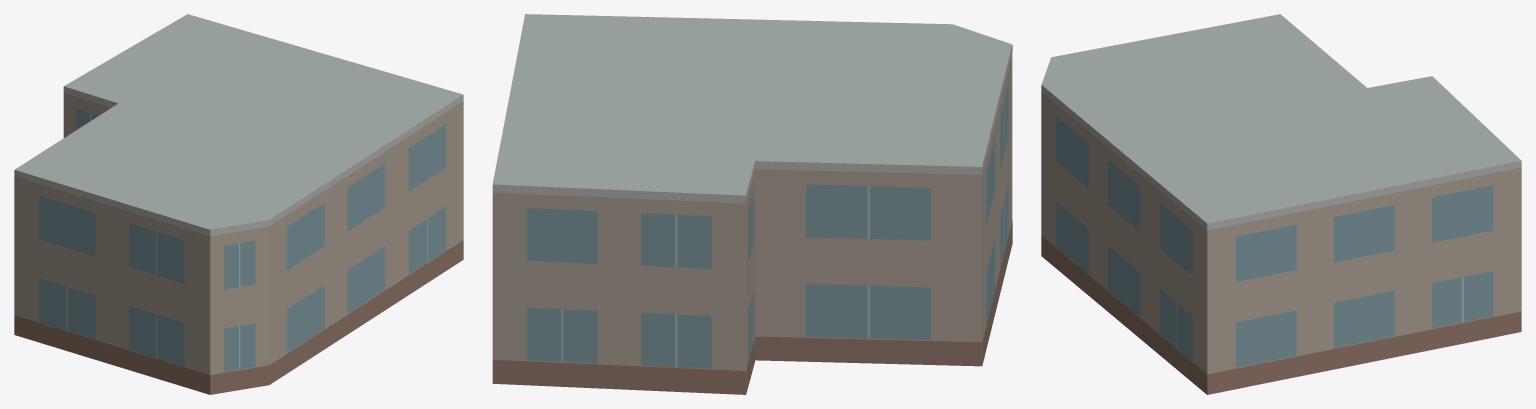
Rendered from survey-upis-32704769.glb.
The picture shows the model from 3 angles, left to right: view 1: azimuth 30°, elevation 25°; view 2: azimuth 150°, elevation 25°; view 3: azimuth 270°, elevation 25°; orthographic projection. The views are drawn at different scales.
Visible parts, largest first — view 1: survey-upis-32704769.tmp; view 2: survey-upis-32704769.tmp; view 3: survey-upis-32704769.tmp.
Boxes of the visible parts, x1,y1,x2,y2 form: survey-upis-32704769.tmp: [14, 14, 463, 394]; survey-upis-32704769.tmp: [492, 14, 1012, 394]; survey-upis-32704769.tmp: [1041, 14, 1521, 394].
Bounding box in the file's own units: 16.02 × 6.1 × 15.51.
